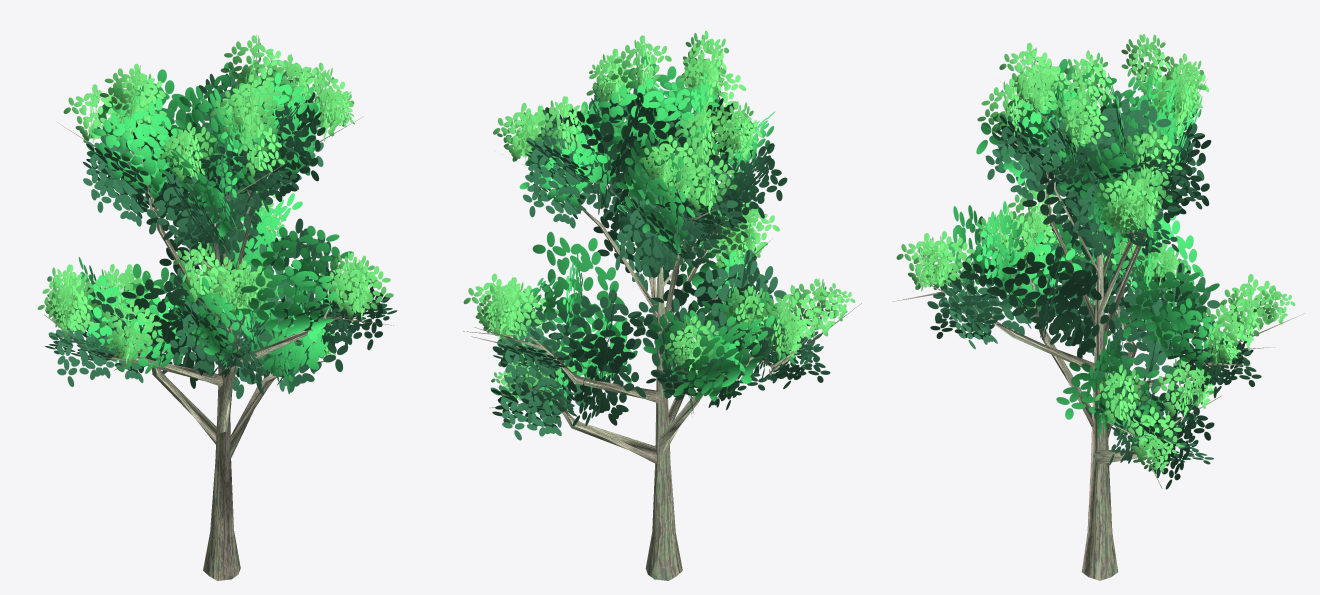
The model's file is jabami_anime_tree_v3.glb.
The picture shows the model from 3 angles, left to right: view 1: azimuth 30°, elevation 25°; view 2: azimuth 150°, elevation 25°; view 3: azimuth 270°, elevation 25°; orthographic projection.
Parts seen in each view (by area): view 1: ..\..\users\hp-touch\documents\treeitsave\texture\tron_tree_ (×4); view 2: ..\..\users\hp-touch\documents\treeitsave\texture\tron_tree_ (×4); view 3: ..\..\users\hp-touch\documents\treeitsave\texture\tron_tree_ (×4).
Boxes of the visible parts, bbox=[...] form: ..\..\users\hp-touch\documents\treeitsave\texture\tron_tree_ (×4): bbox=[37, 35, 397, 580]; ..\..\users\hp-touch\documents\treeitsave\texture\tron_tree_ (×4): bbox=[463, 30, 861, 580]; ..\..\users\hp-touch\documents\treeitsave\texture\tron_tree_ (×4): bbox=[892, 34, 1304, 580].
Bounding box in the file's own units: 4.39 × 6.41 × 4.47.
Materials: 4 (4 with a texture image).
